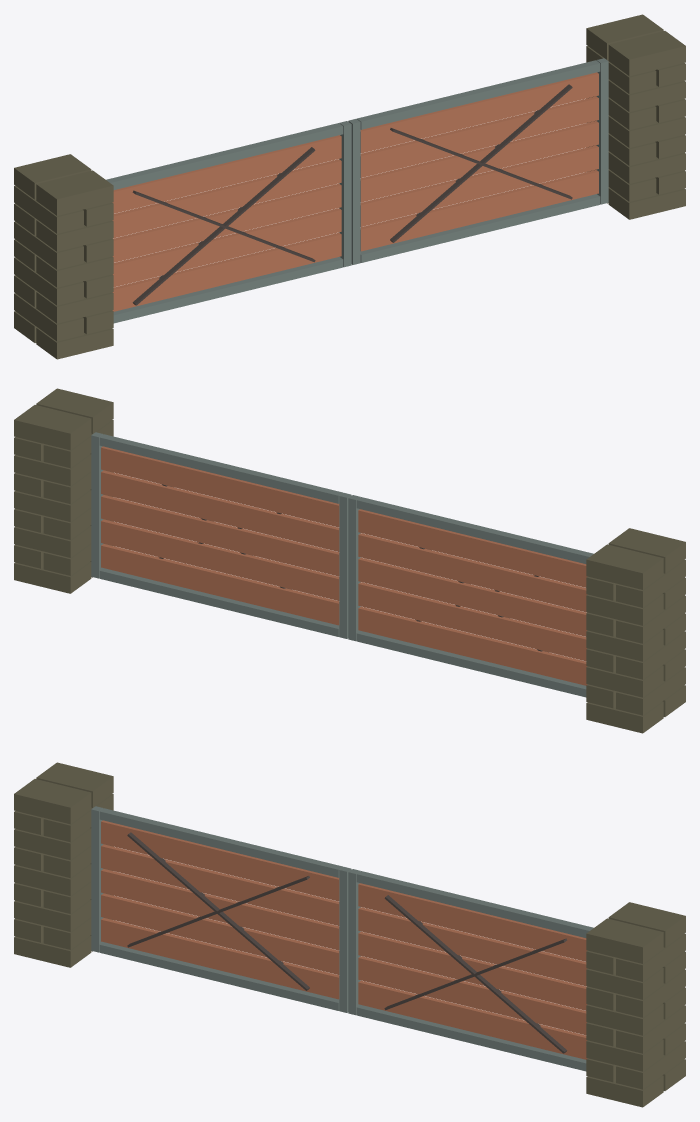
File: SM_PuertaVehiculos_v2_Tablones_e0_Sano_LOD0.fbx
3 renders of one model, top to bottom at view 1: azimuth 30°, elevation 25°; view 2: azimuth 150°, elevation 25°; view 3: azimuth 330°, elevation 25°, orthographic.
Parts seen in each view (by area): view 1: Hoja_E, Hoja_O, SM_bloques.puerta_estados_v8_LOD0; view 2: Hoja_E, Hoja_O, SM_bloques.puerta_estados_v8_LOD0; view 3: Hoja_O, Hoja_E, SM_bloques.puerta_estados_v8_LOD0.
Part boxes in pixels (x1,y1,x2,y2): Hoja_E: (348,58,608,264); Hoja_O: (106,121,351,323); SM_bloques.puerta_estados_v8_LOD0: (14,14,685,359); Hoja_E: (91,432,351,638); Hoja_O: (348,495,593,697); SM_bloques.puerta_estados_v8_LOD0: (14,388,685,733); Hoja_O: (91,806,351,1012); Hoja_E: (348,869,593,1071); SM_bloques.puerta_estados_v8_LOD0: (14,762,685,1107).
Size of the model in its own units: 9.78 by 2.38 by 1.16.
